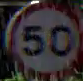Speed limit: (6, 2, 81, 71)
